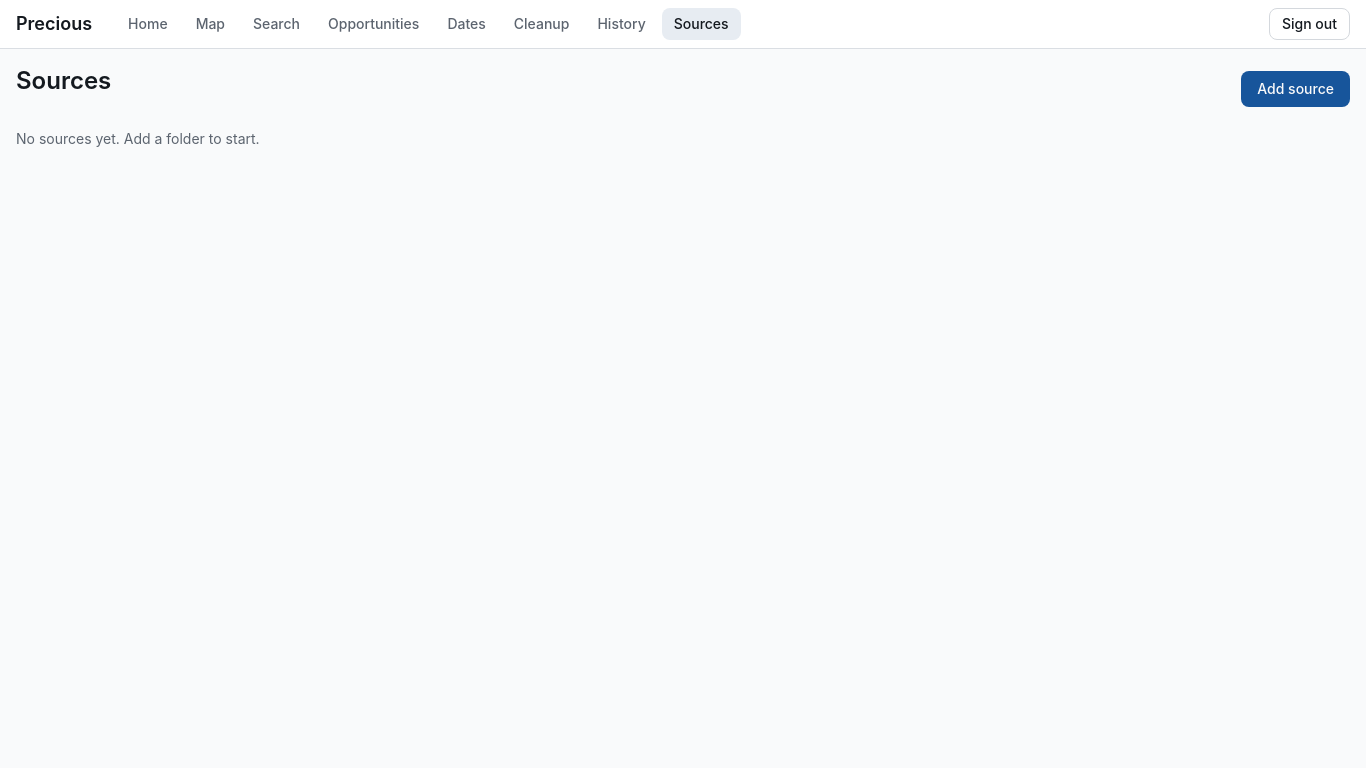
Sources screen › names the folder after itself when no name is given
Click the button "Add source" at (1296, 89), box [1241,71,1350,107]
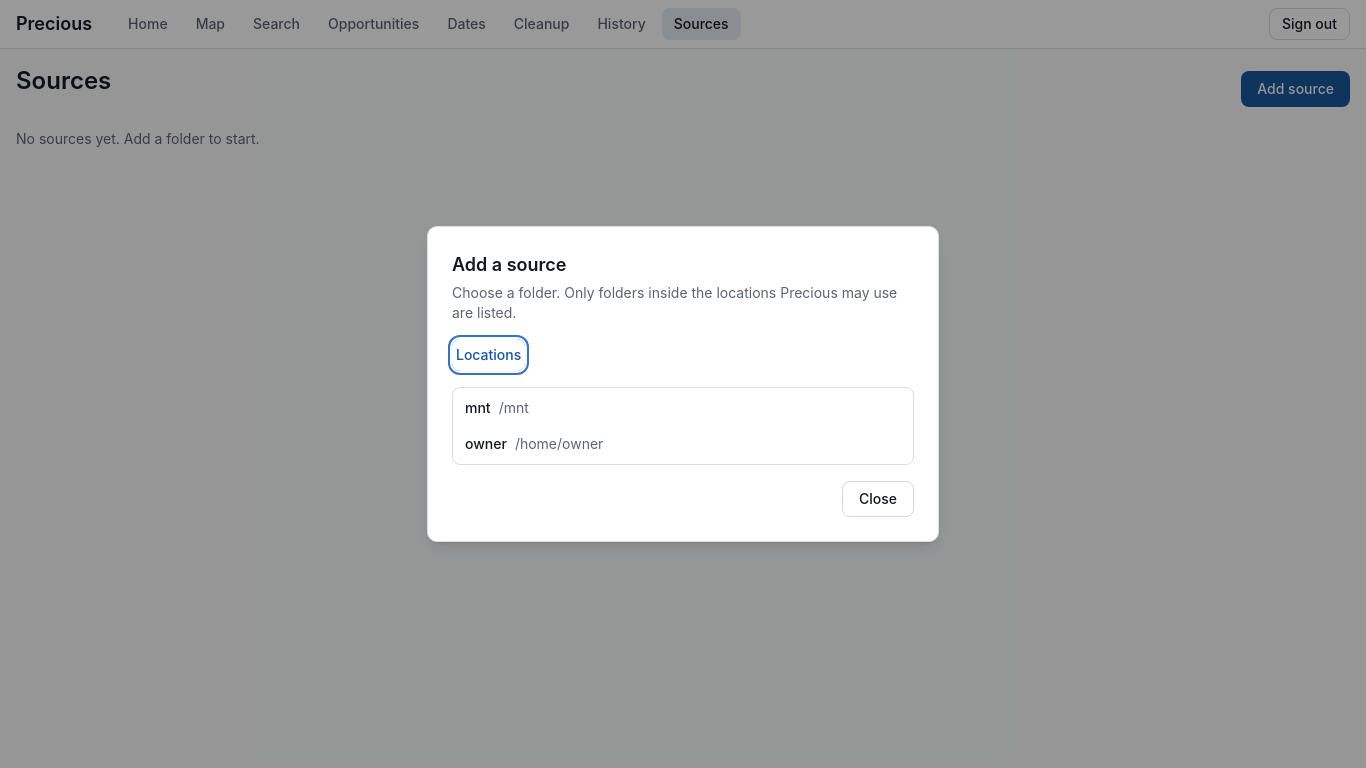
Click the button "mnt /mnt" at (514, 408), box [457,392,909,424]
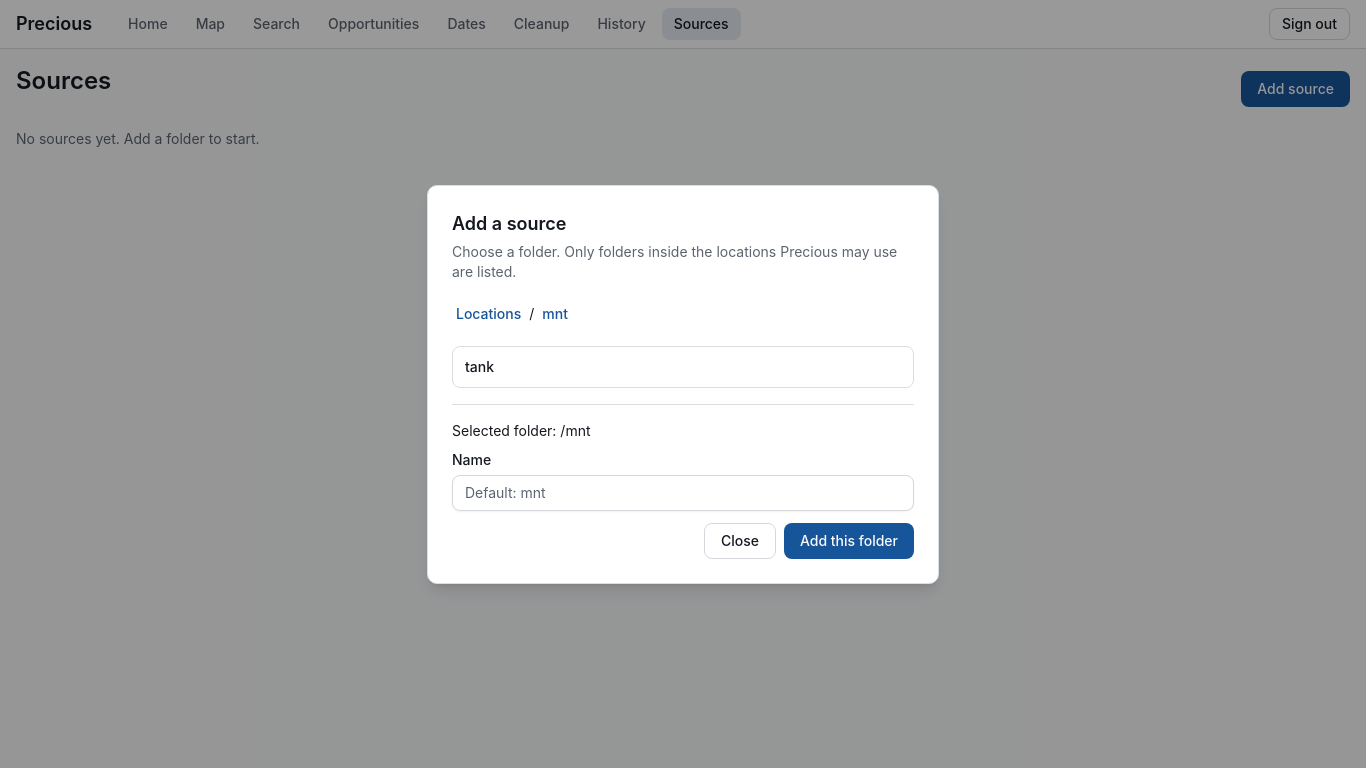
Click the button "Add this folder" at (849, 540), box [784,522,914,558]
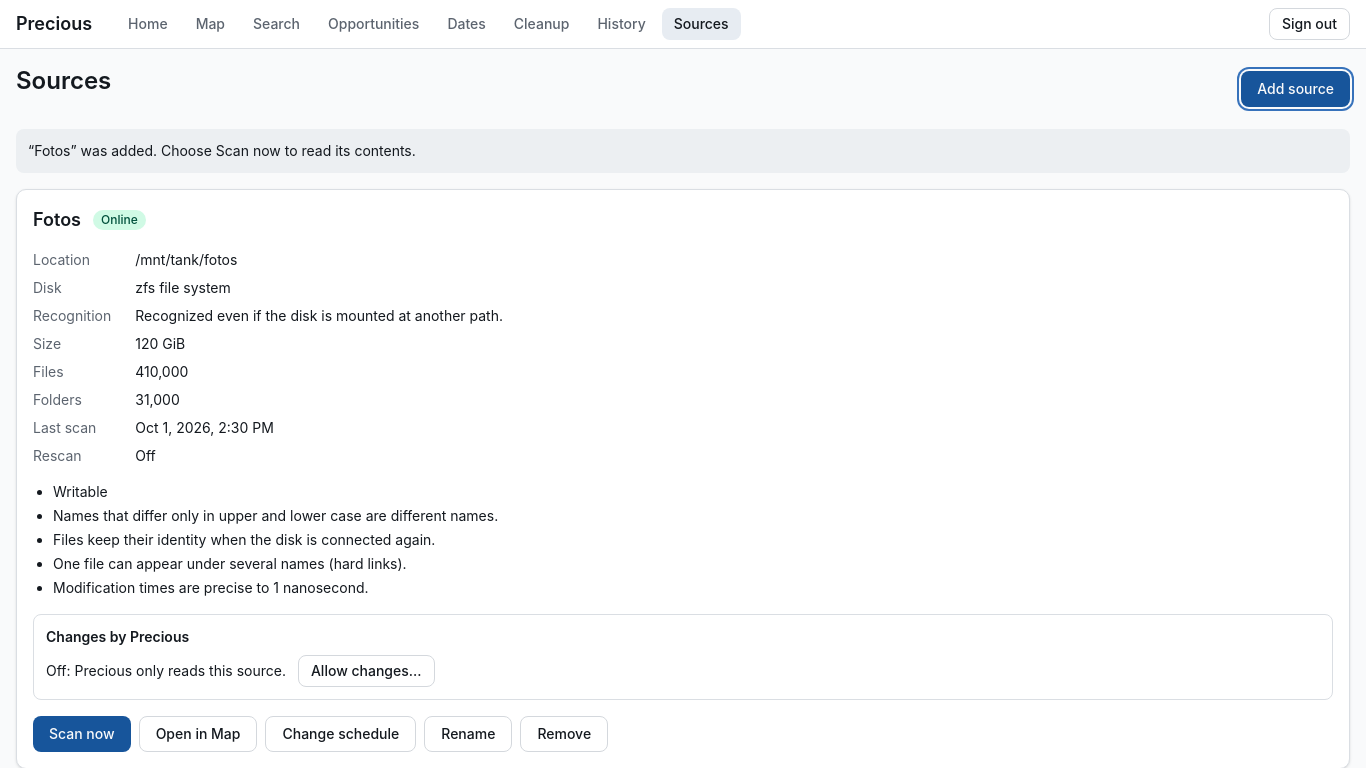
Check: the element "Fotos" is shown
